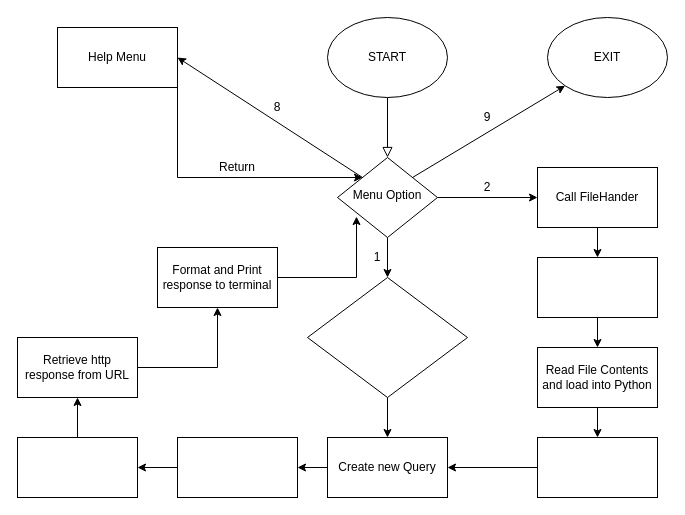
Some shapes in this 685 by 515 pixel diagram are drawn without their labels. The box of each missing label's shape, as (x1, y1, x2, y2) in pixels:
Generate URL: (16, 436, 138, 498)
Prompt User for Query Conditions: (306, 276, 468, 398)
Sanitise Query: (176, 436, 298, 498)
Validate File's Existence and Content: (536, 256, 658, 318)
Validate Query: (536, 436, 658, 498)
